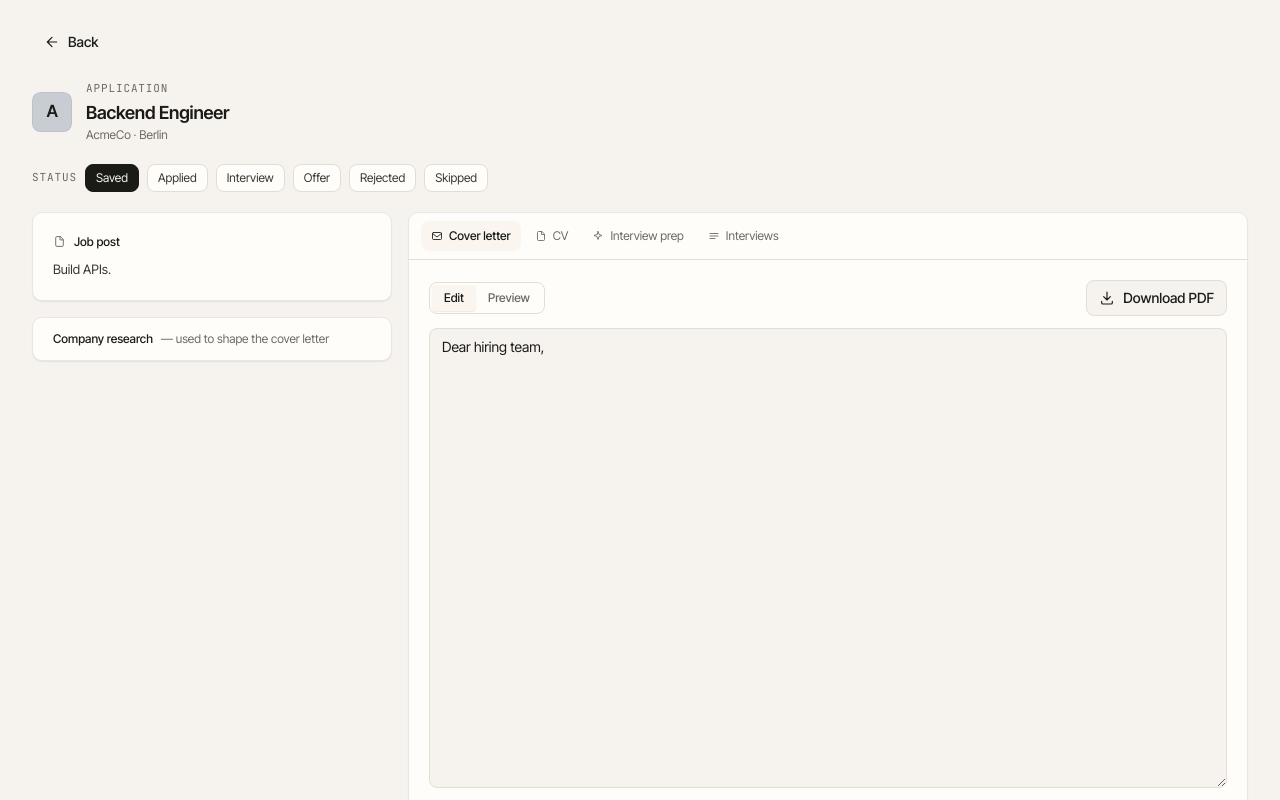
Scenario: MaterialsScreen (detail mode) › exports the finished CV (profile cv_text), never the tailoring analysis, and toasts
The width and height of the screenshot is (1280, 800).
Expected: the text box named "edit" is shown, [429,328,1227,788]
Click the button "CV": {"x": 552, "y": 236} [525,220,578,250]
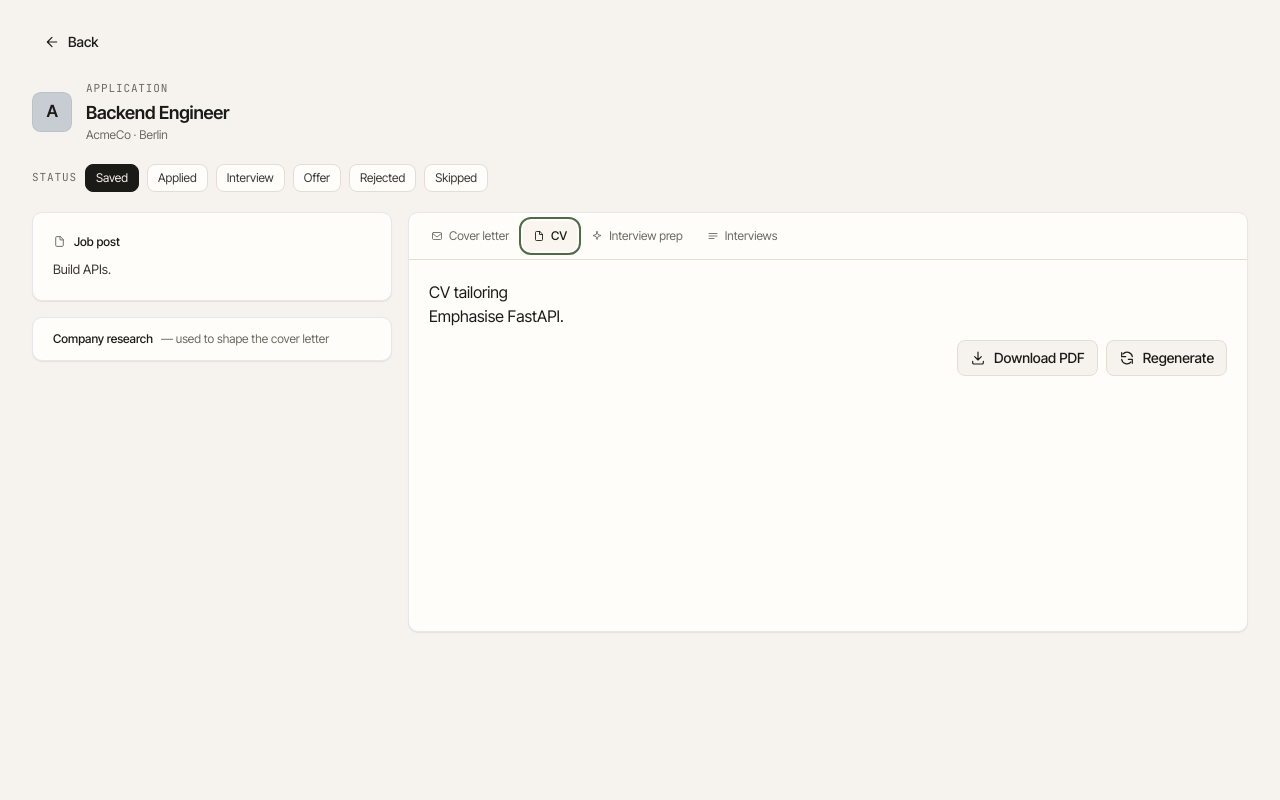
Result: the list item "Emphasise FastAPI." is shown at [429,306,564,326]
Note: ...but the CV export is the résumé, enabled once the profile loads.
Click the button "Download PDF": {"x": 1027, "y": 358} [957,340,1098,376]
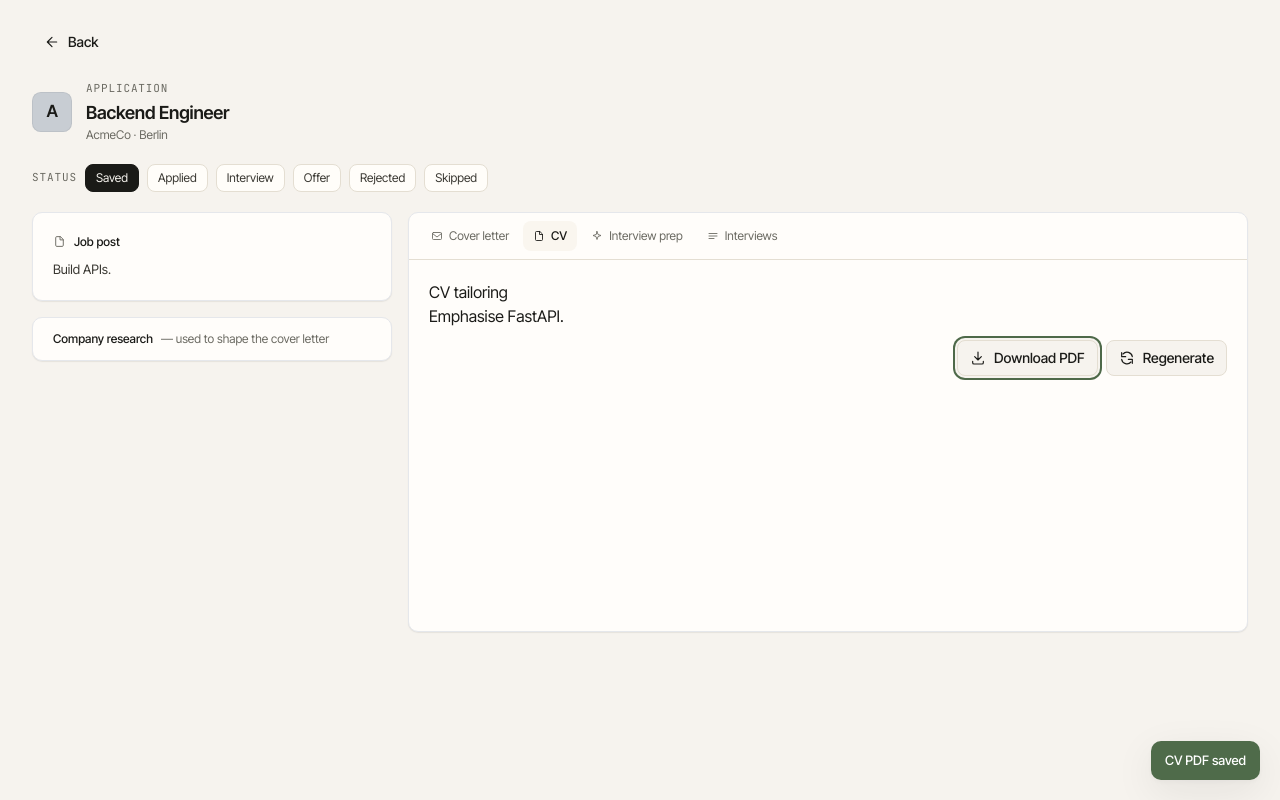
Result: the message reads "CV PDF saved" at [1165,752,1246,768]
